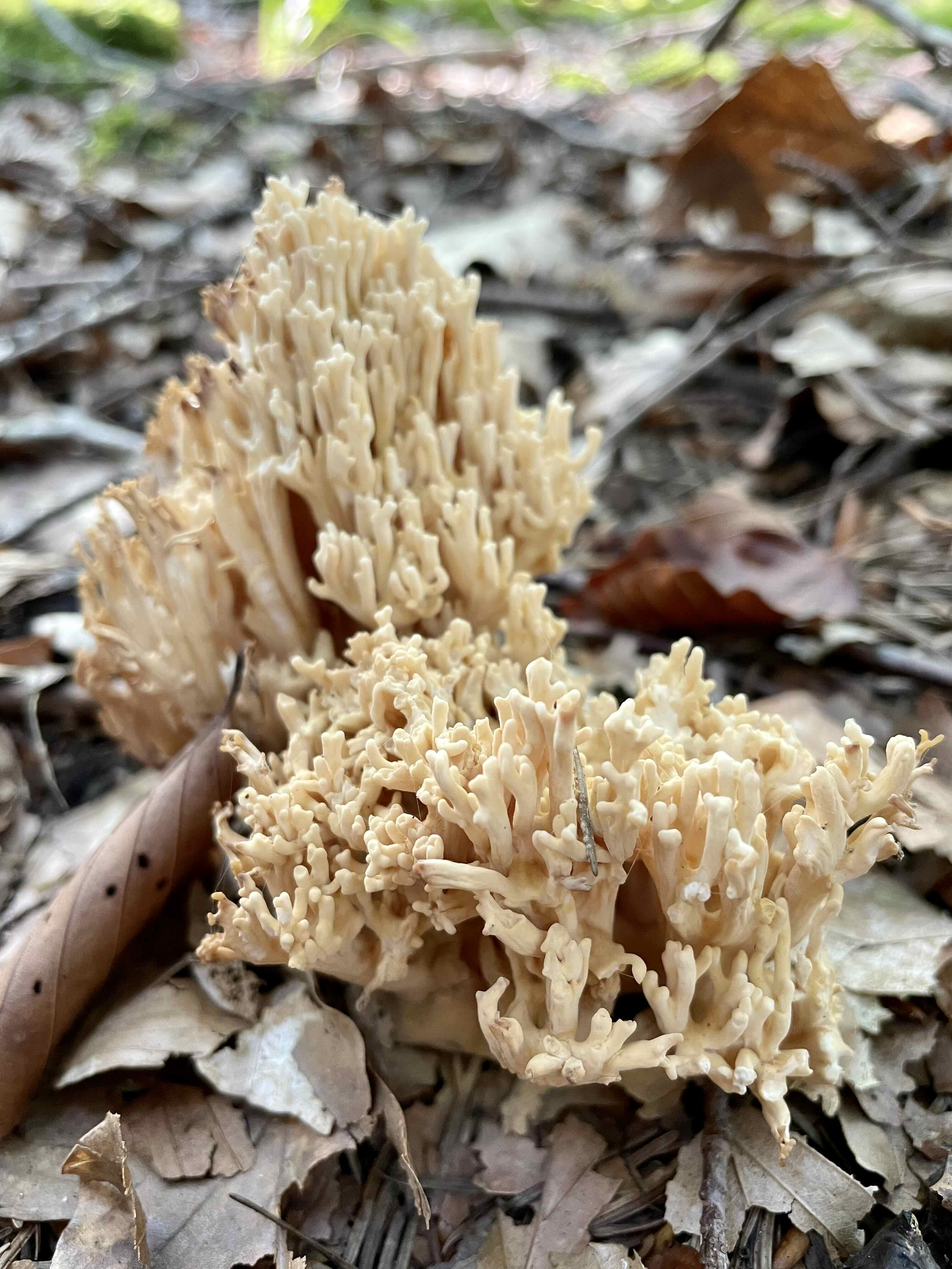coral: (79, 178, 931, 1155)
